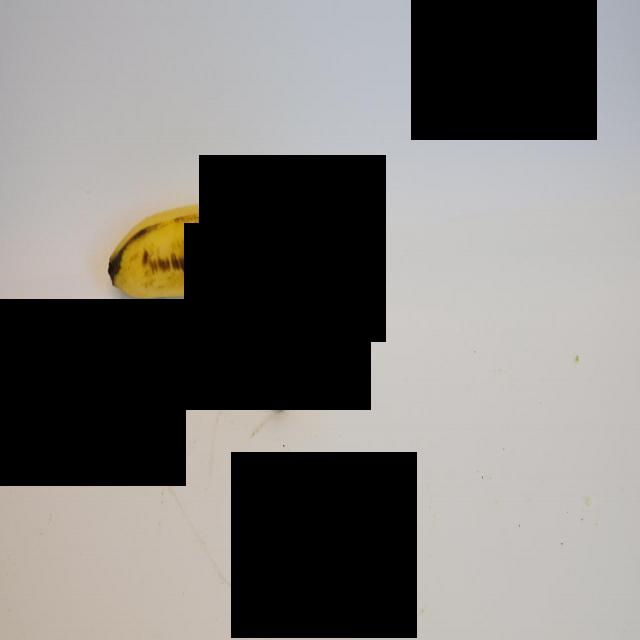banana: (106, 193, 318, 408)
